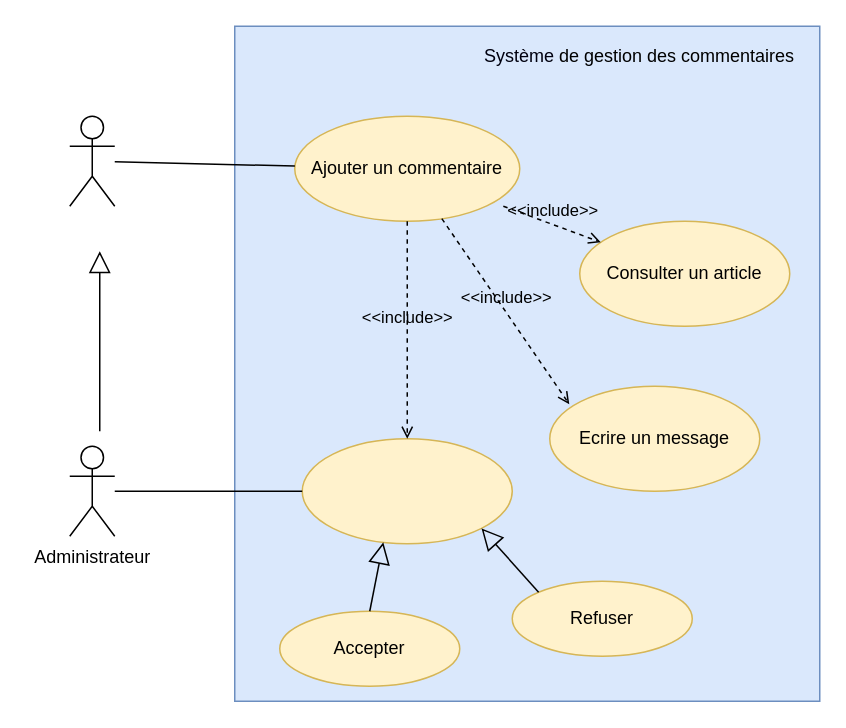
The diagram is 846 pixels wide and 728 high, and some of its shapes have lost their labels. The centre of each missing label's shape, as x and y in pixels:
Utilisateur inscrit: point (91, 160)
Valider le commentaire: point (406, 490)
